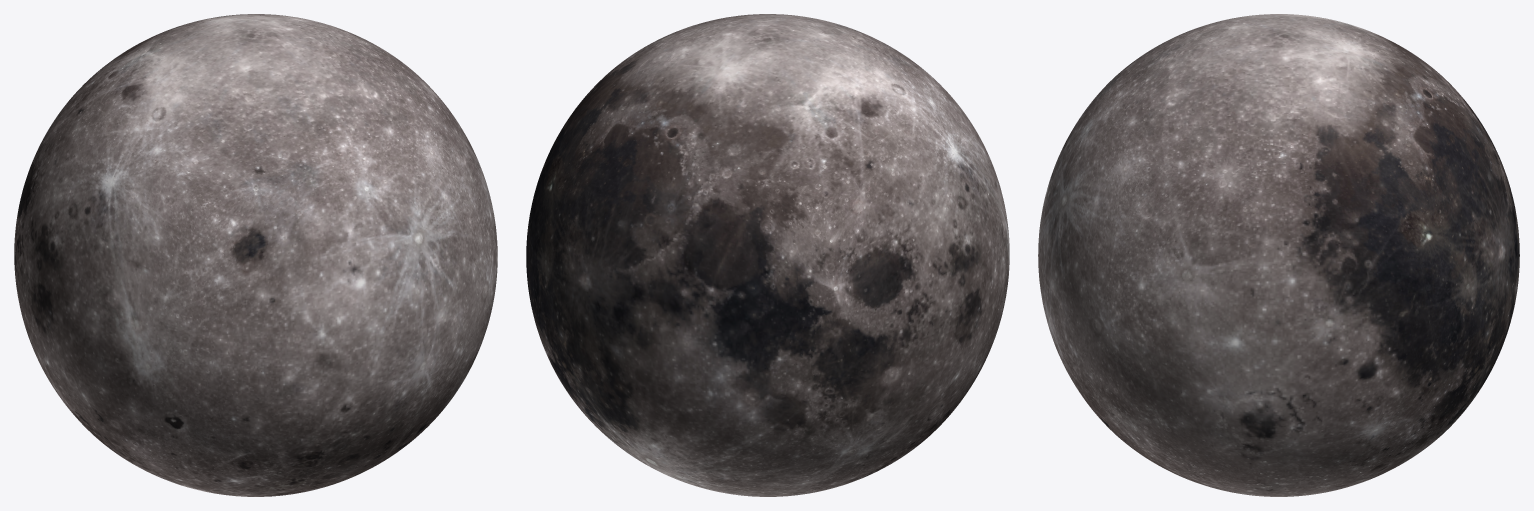
Rendered from luna.glb.
3 views of the same model, side by side, from view 1: azimuth 30°, elevation 25°; view 2: azimuth 150°, elevation 25°; view 3: azimuth 270°, elevation 25° (orthographic).
Parts seen in each view (by area): view 1: Cube; view 2: Cube; view 3: Cube.
Boxes of the visible parts, x1,y1,x2,y2 form: Cube: (14,14,497,496); Cube: (526,14,1009,496); Cube: (1038,14,1519,496).
Size of the model in its own units: 2 by 2 by 2.
Materials: 1 (1 with a texture image).
